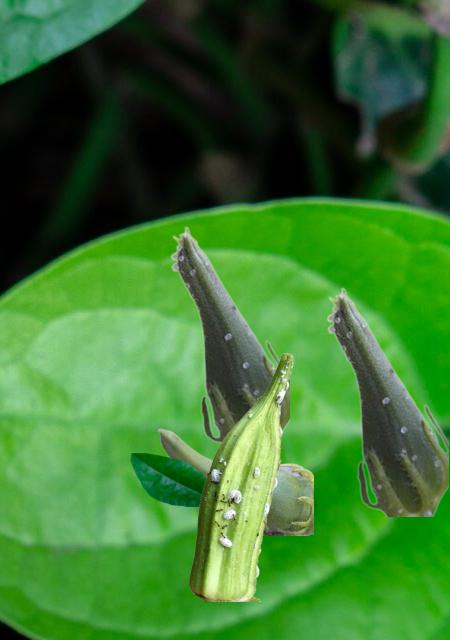okra: (326, 287, 447, 515), (170, 226, 288, 444), (189, 353, 293, 600), (157, 428, 312, 534)
